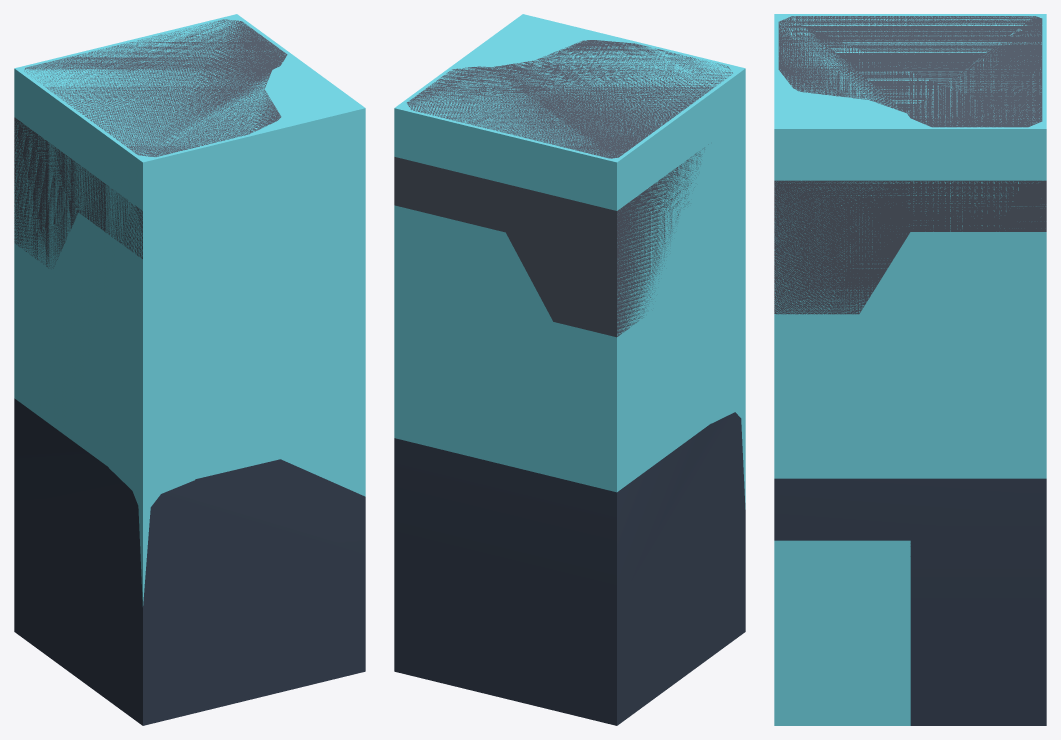
File: PBOX1_FLA_04.FBX
3 views of the same model, side by side, from view 1: azimuth 30°, elevation 25°; view 2: azimuth 150°, elevation 25°; view 3: azimuth 270°, elevation 25° (orthographic). The views are drawn at different scales.
Parts seen in each view (by area): view 1: PBOX1_FLA_04, PBOX1_SUB_TAB_ROCK_01, PBOX1_SUB_FLA_008; view 2: PBOX1_FLA_04, PBOX1_SUB_TAB_ROCK_01, PBOX1_SUB_FLA_008; view 3: PBOX1_FLA_04, PBOX1_SUB_FLA_008, PBOX1_SUB_TAB_ROCK_01.
Part boxes in pixels (box(x1,y1,x2,y2)): PBOX1_FLA_04: box(14, 14, 365, 606); PBOX1_SUB_TAB_ROCK_01: box(14, 398, 365, 725); PBOX1_SUB_FLA_008: box(14, 19, 287, 268); PBOX1_FLA_04: box(394, 14, 745, 509); PBOX1_SUB_TAB_ROCK_01: box(394, 412, 745, 725); PBOX1_SUB_FLA_008: box(394, 40, 732, 337); PBOX1_FLA_04: box(774, 14, 1046, 725); PBOX1_SUB_FLA_008: box(774, 16, 1046, 314); PBOX1_SUB_TAB_ROCK_01: box(774, 478, 1046, 725).
Bounding box in the file's own units: 6 × 14.5 × 6.
